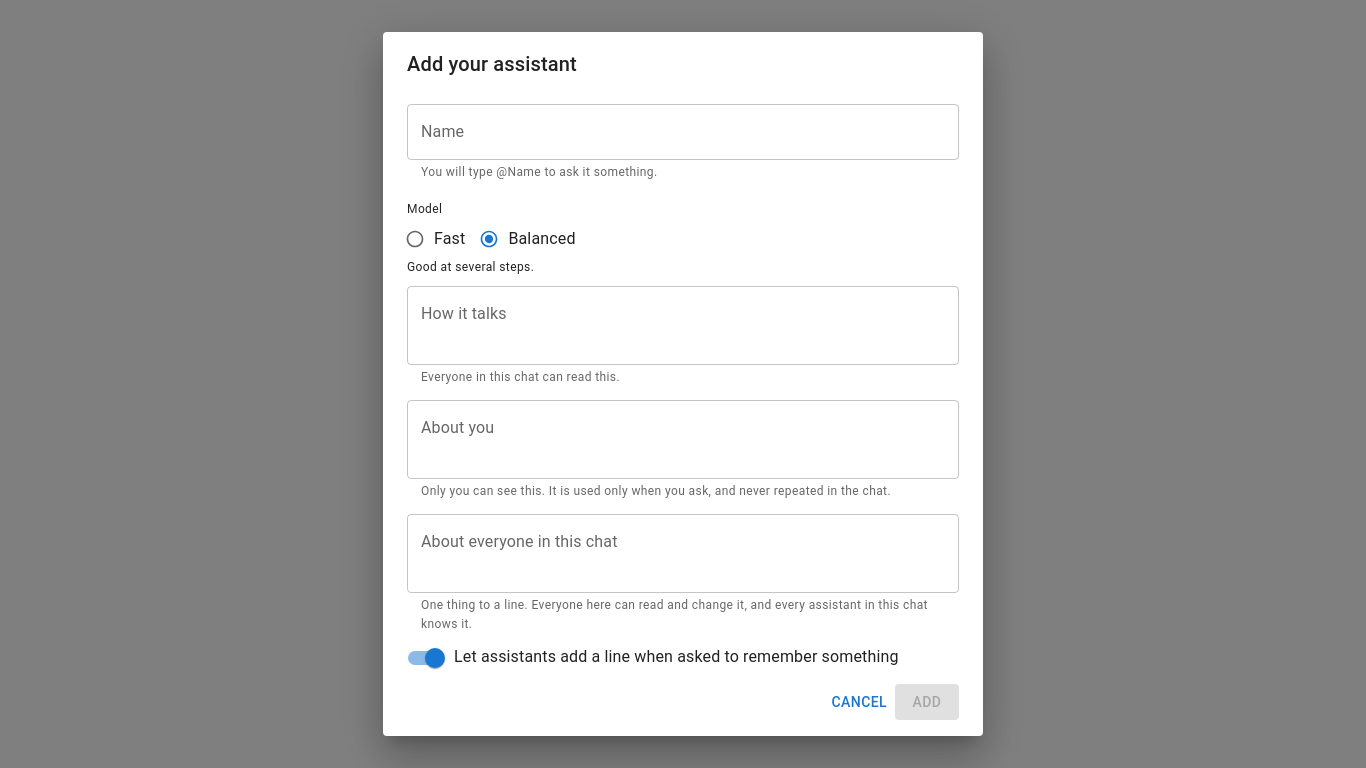
Test: adding an assistant › shows what the server refused, in its own words, and stays open
Type "Tumbi" into the field labelled "Name" at point(683, 132), box 407,104 -> 959,160
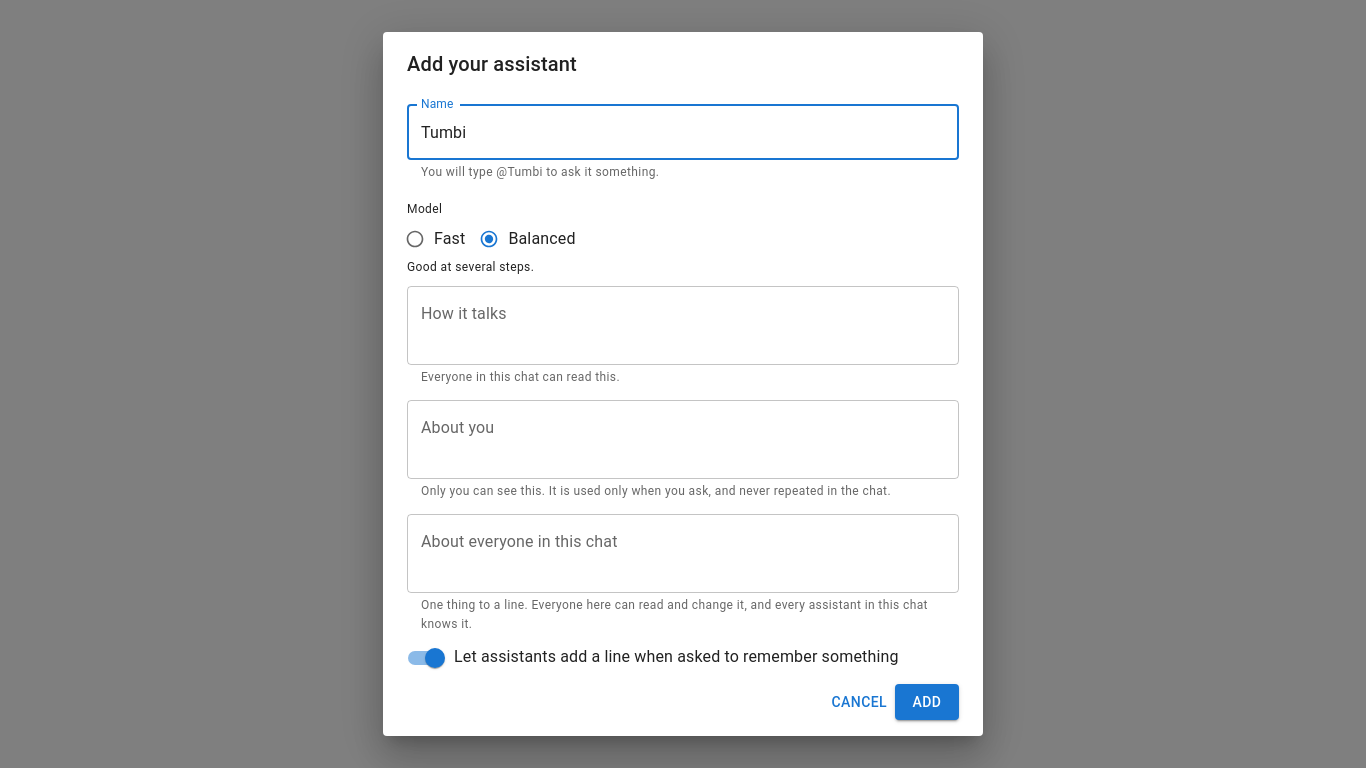
Click the button "Add" at point(927, 702), box 895,684 -> 959,720
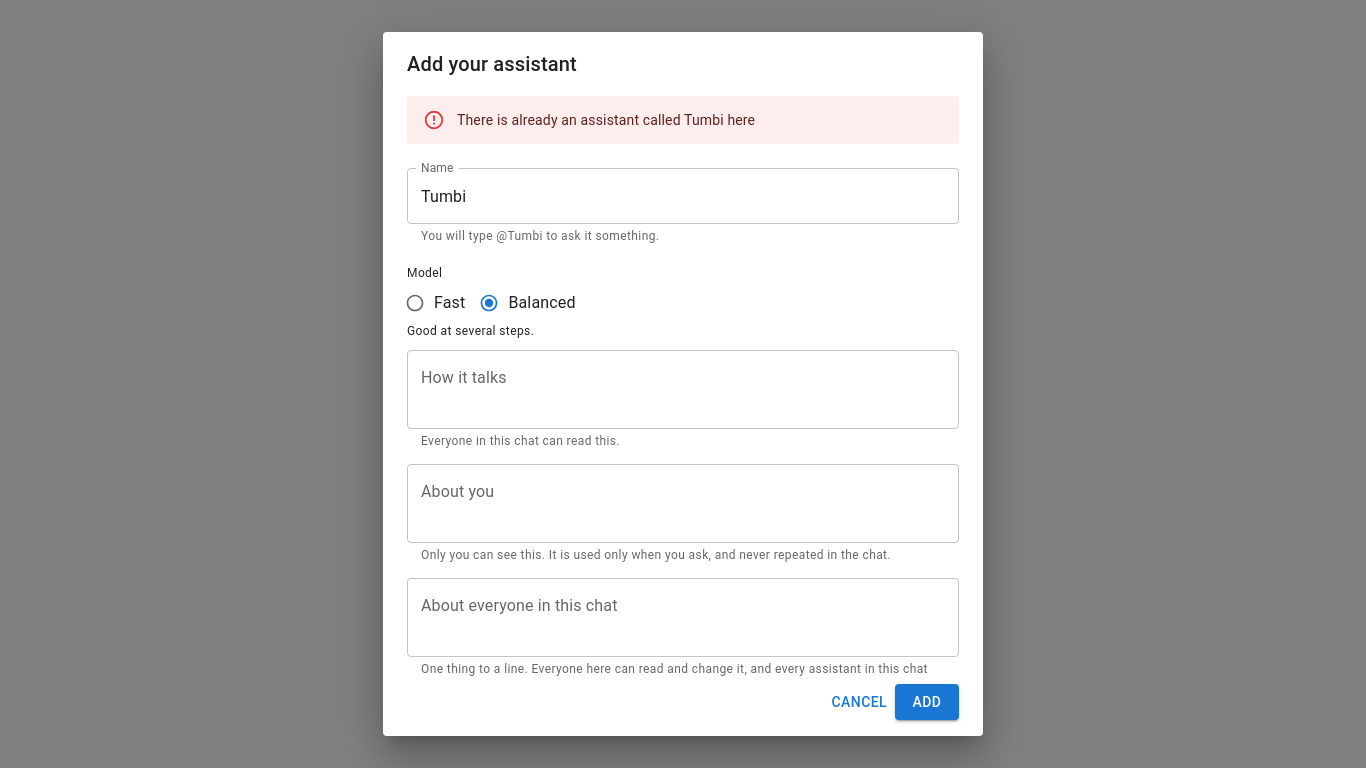
Check: the text "There is already an assistant called Tumbi here" is shown, box 457,112 -> 755,128
